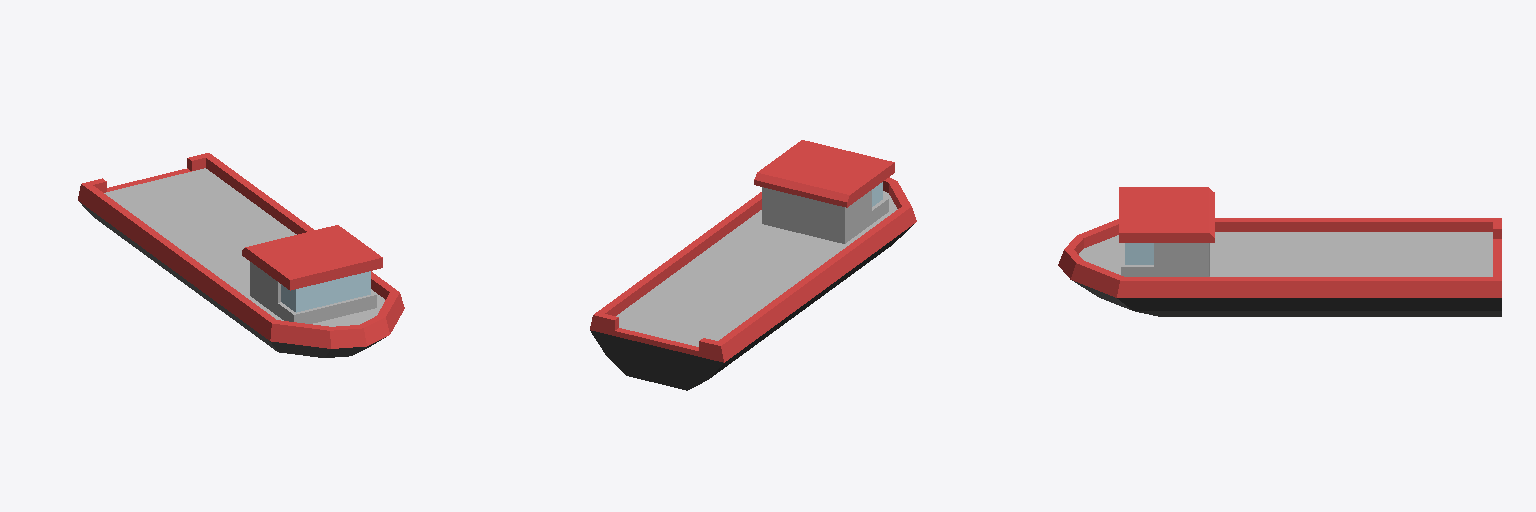
The model's file is modifiedboat.obj.
The picture shows the model from 3 angles: view 1: azimuth 30°, elevation 25°; view 2: azimuth 150°, elevation 25°; view 3: azimuth 270°, elevation 25°; orthographic projection.
Parts seen in each view (by area): view 1: boat.001; view 2: boat.001; view 3: boat.001.
Boxes of the visible parts, x1=… form: boat.001: x1=78, y1=153, x2=404, y2=357; boat.001: x1=590, y1=140, x2=916, y2=390; boat.001: x1=1058, y1=187, x2=1501, y2=316.
Bounding box in the file's own units: 3.69 × 2.41 × 10.55.